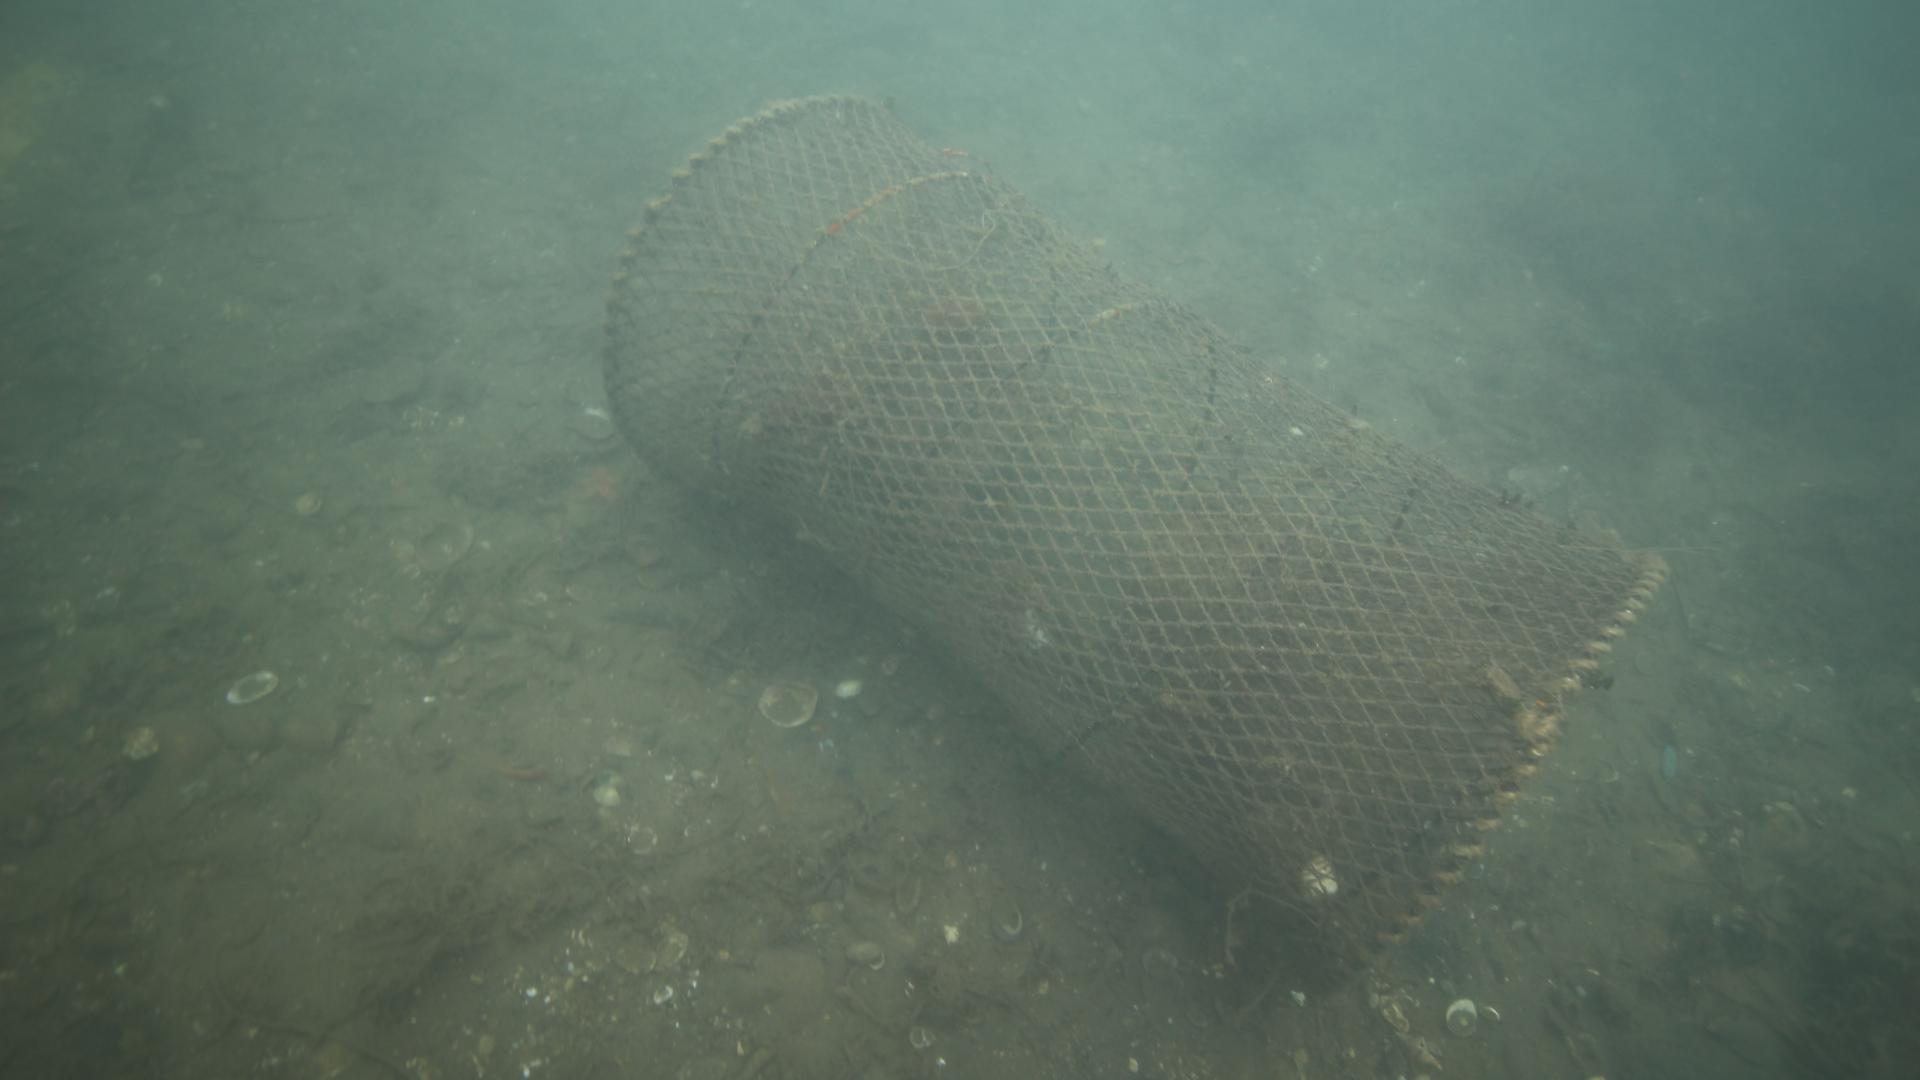spring fish trap: (599, 94, 1672, 985)
